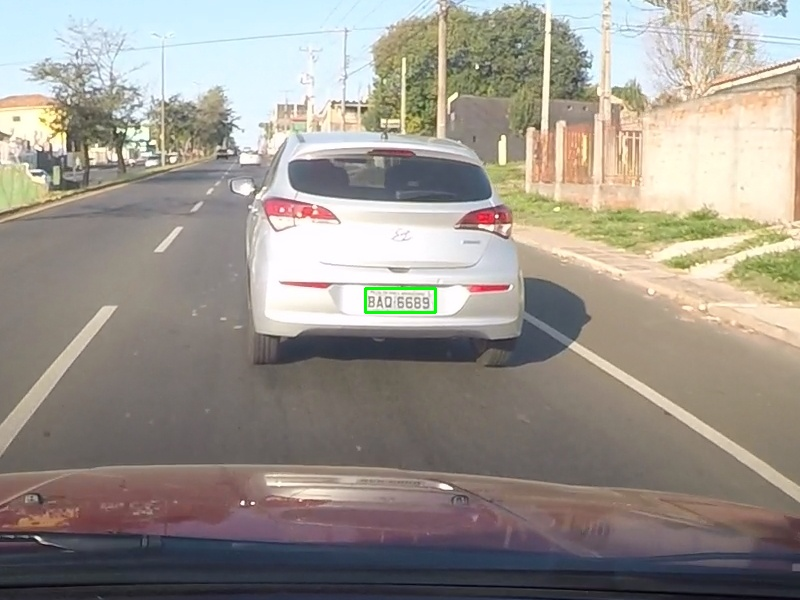placa: (365, 288, 435, 312)
